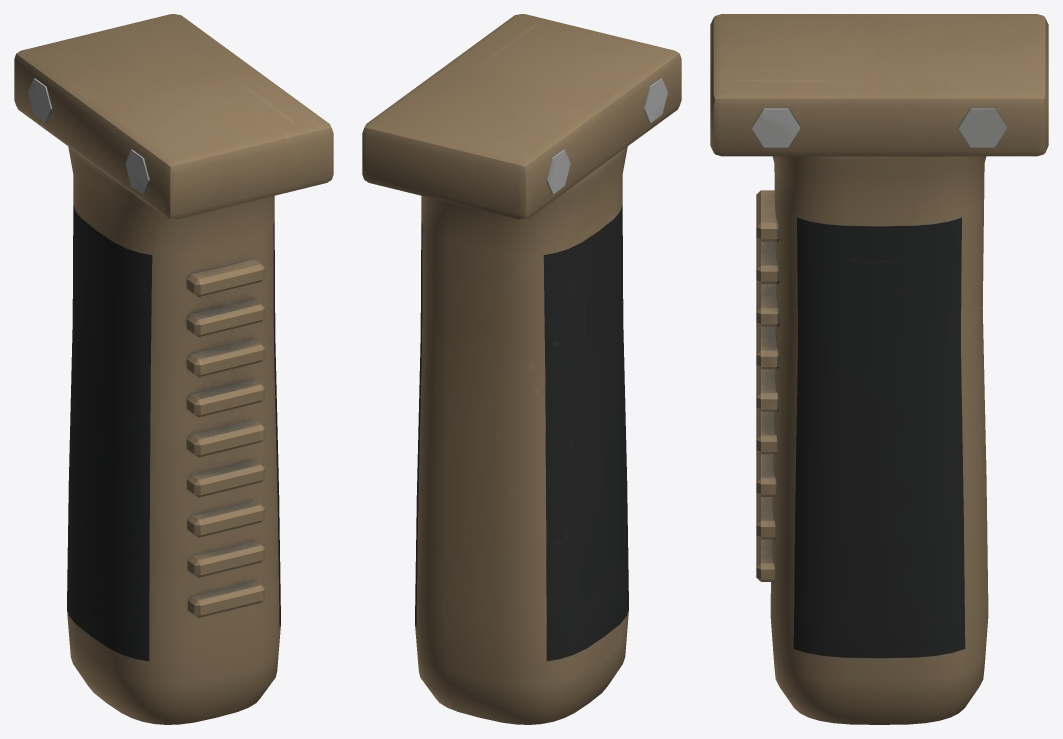
File: empunhadura_reta_tan.glb
3 views of the same model, side by side, from view 1: azimuth 30°, elevation 25°; view 2: azimuth 150°, elevation 25°; view 3: azimuth 270°, elevation 25° (orthographic). The views are drawn at different scales.
Visible parts, largest first — view 1: empunhadura_reta_tan_punho; view 2: empunhadura_reta_tan_punho; view 3: empunhadura_reta_tan_punho.
Part boxes in pixels (bbox=[...]): empunhadura_reta_tan_punho: bbox=[14, 14, 333, 724]; empunhadura_reta_tan_punho: bbox=[362, 14, 681, 724]; empunhadura_reta_tan_punho: bbox=[710, 14, 1048, 724].
Size of the model in its own units: 0.0224 by 0.076 by 0.036.
1 material, 1 textured.
